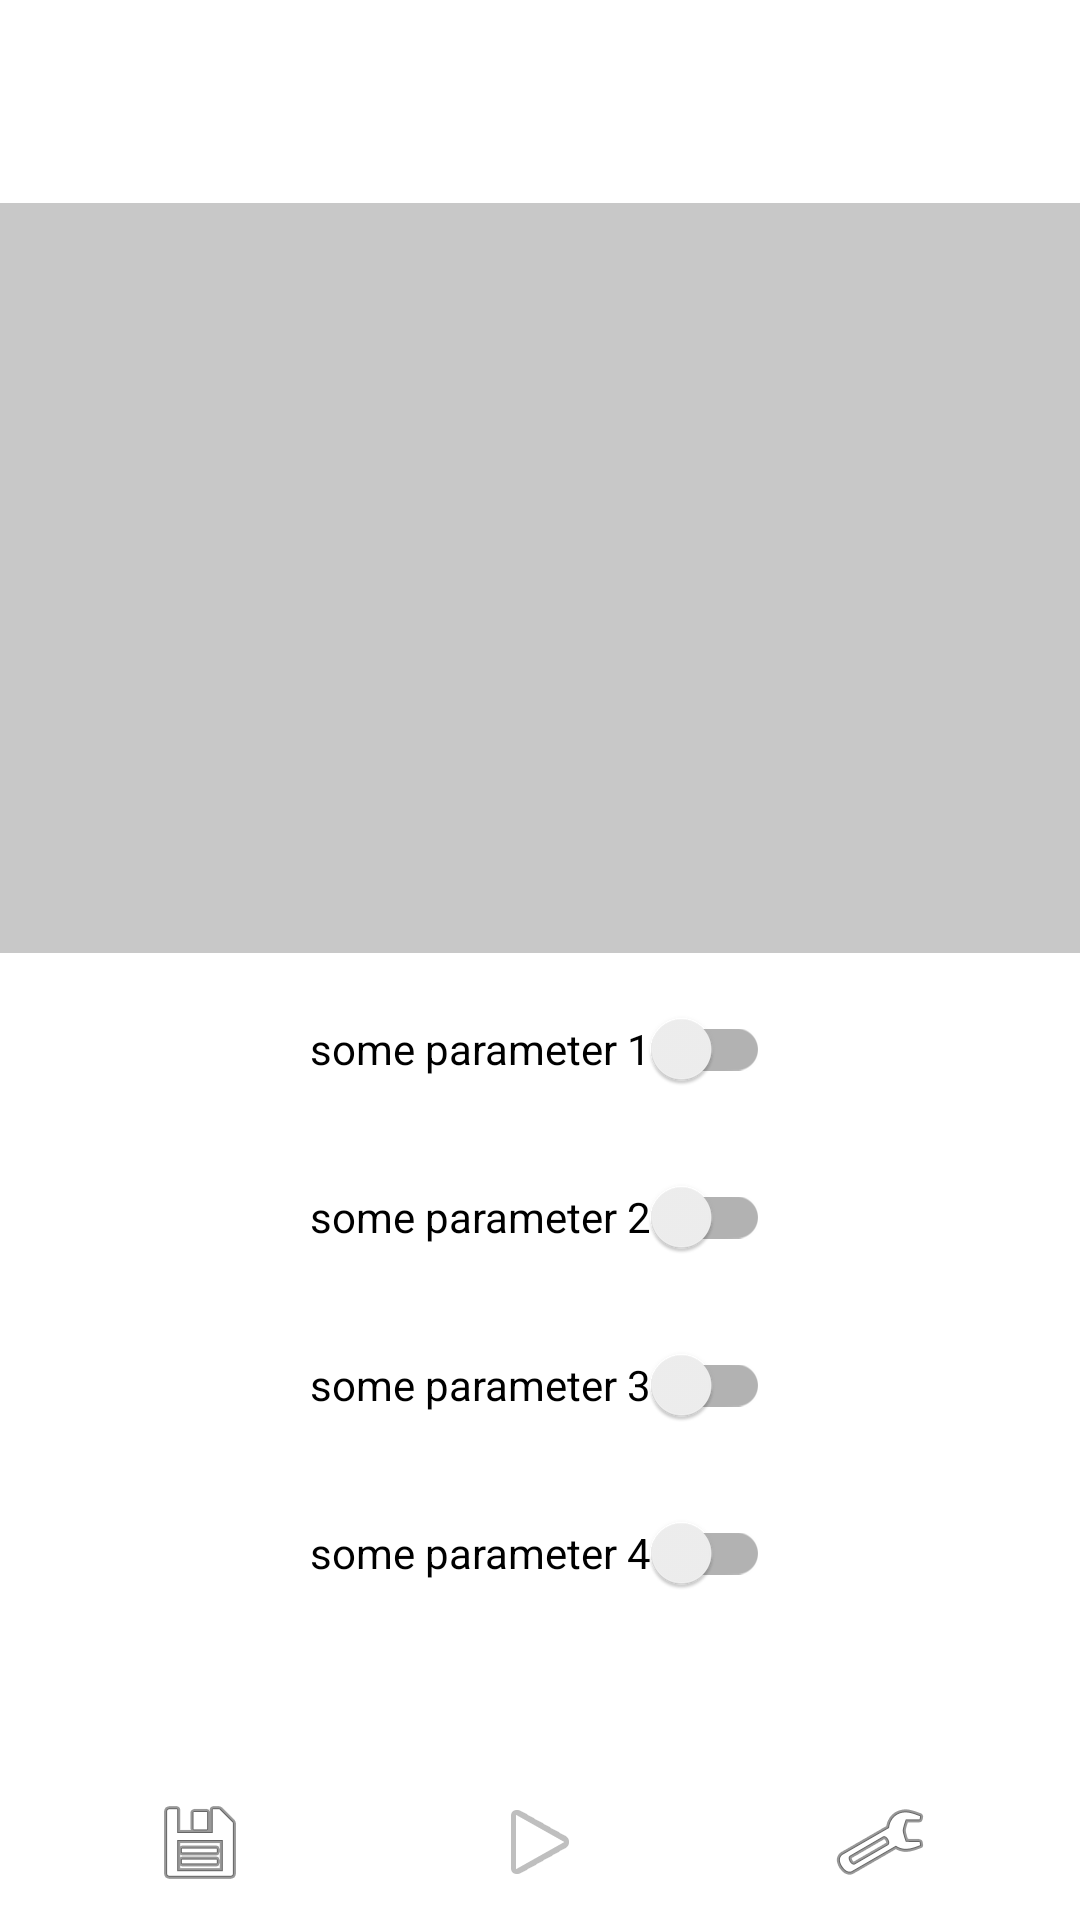

Icon click points for this 1080 × 1920 phone screenshot, format [x,y]:
Настройки: [880,1842]
Прослушать: [540,1842]
Сохранить: [200,1842]
